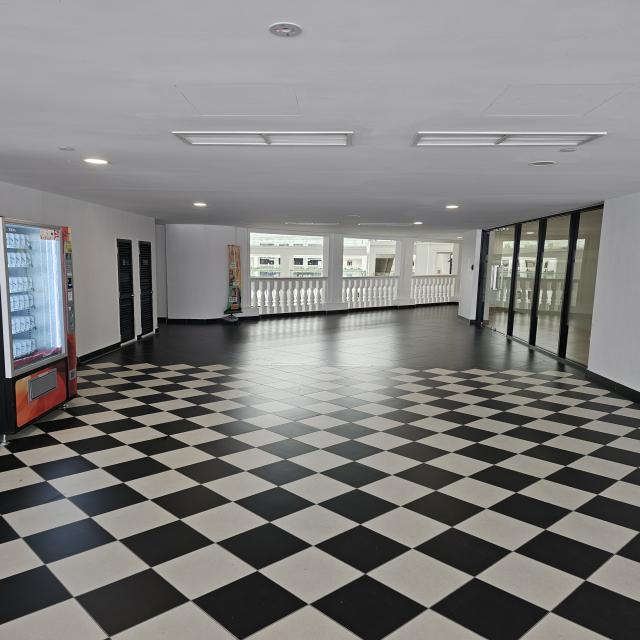door: (476, 203, 605, 369)
footpath: (101, 350, 468, 640)
obstacle: (2, 214, 82, 443)
